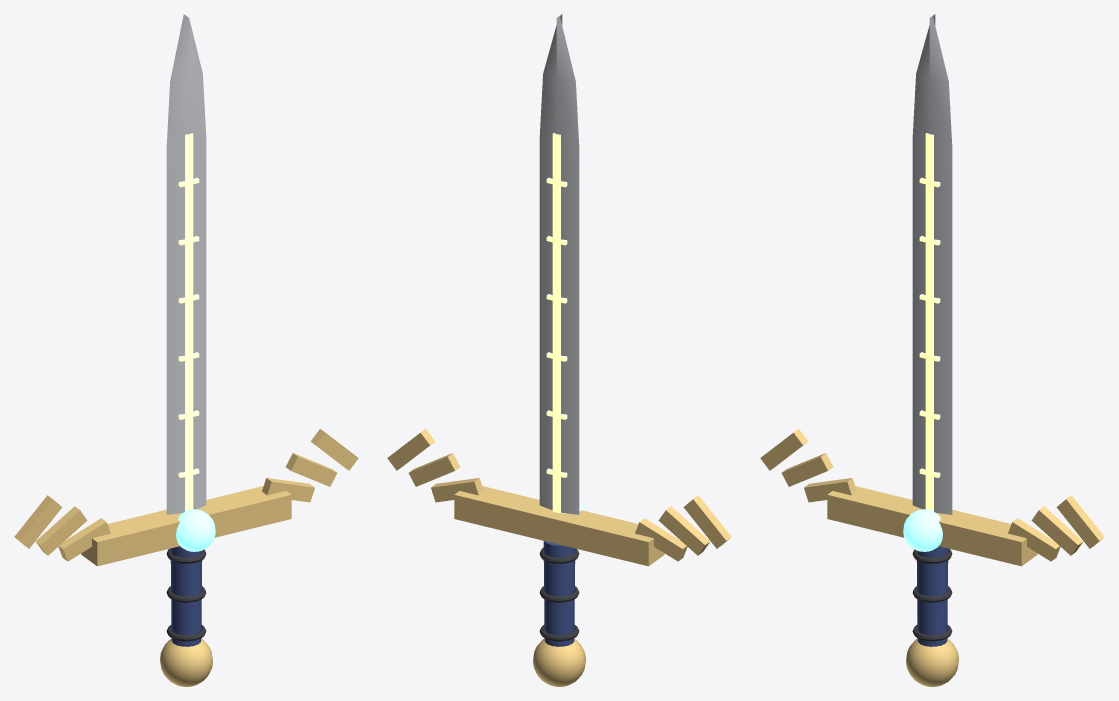
File: excalibyte.glb
The picture shows the model from 3 angles, left to right: view 1: azimuth 30°, elevation 25°; view 2: azimuth 150°, elevation 25°; view 3: azimuth 330°, elevation 25°; orthographic projection.
Visible parts, largest first — view 1: excalibyte; view 2: excalibyte; view 3: excalibyte.
Part boxes in pixels (x1=…): excalibyte: x1=14, y1=14, x2=358, y2=686; excalibyte: x1=387, y1=14, x2=731, y2=686; excalibyte: x1=760, y1=14, x2=1104, y2=686.
Bounding box in the file's own units: 0.7328 × 1.38 × 0.12.
